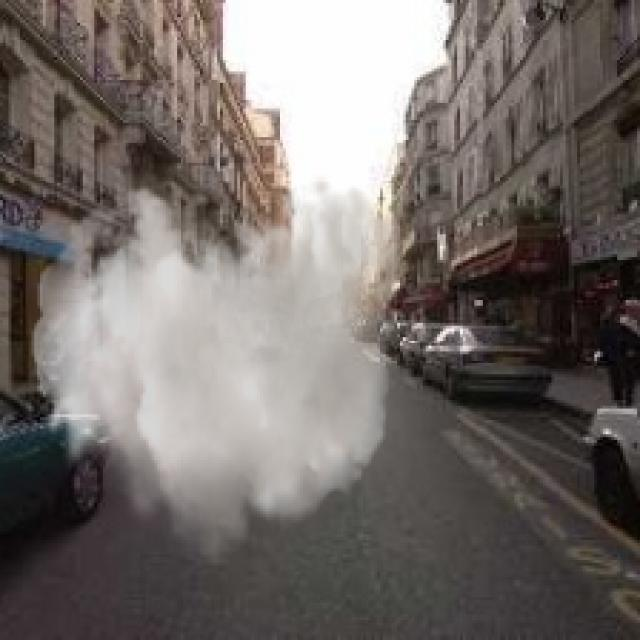smoke: (31, 175, 406, 574)
